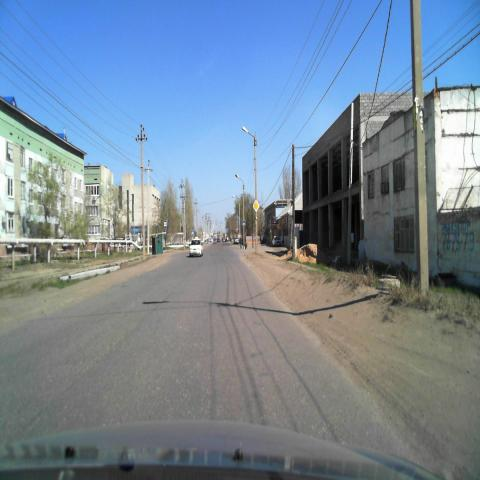2_1: (252, 199, 260, 213)
